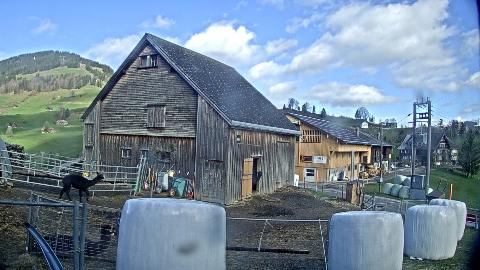car: (391, 164, 394, 170)
sheep: (34, 224, 118, 262), (59, 172, 105, 204), (251, 172, 263, 186)
